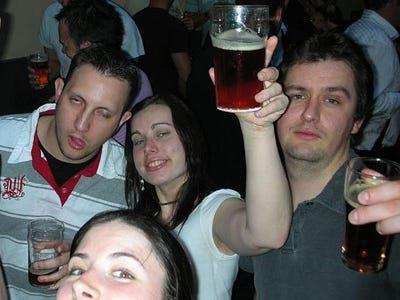Drunk: (284, 62, 351, 161), (58, 67, 123, 159), (130, 108, 183, 183)
